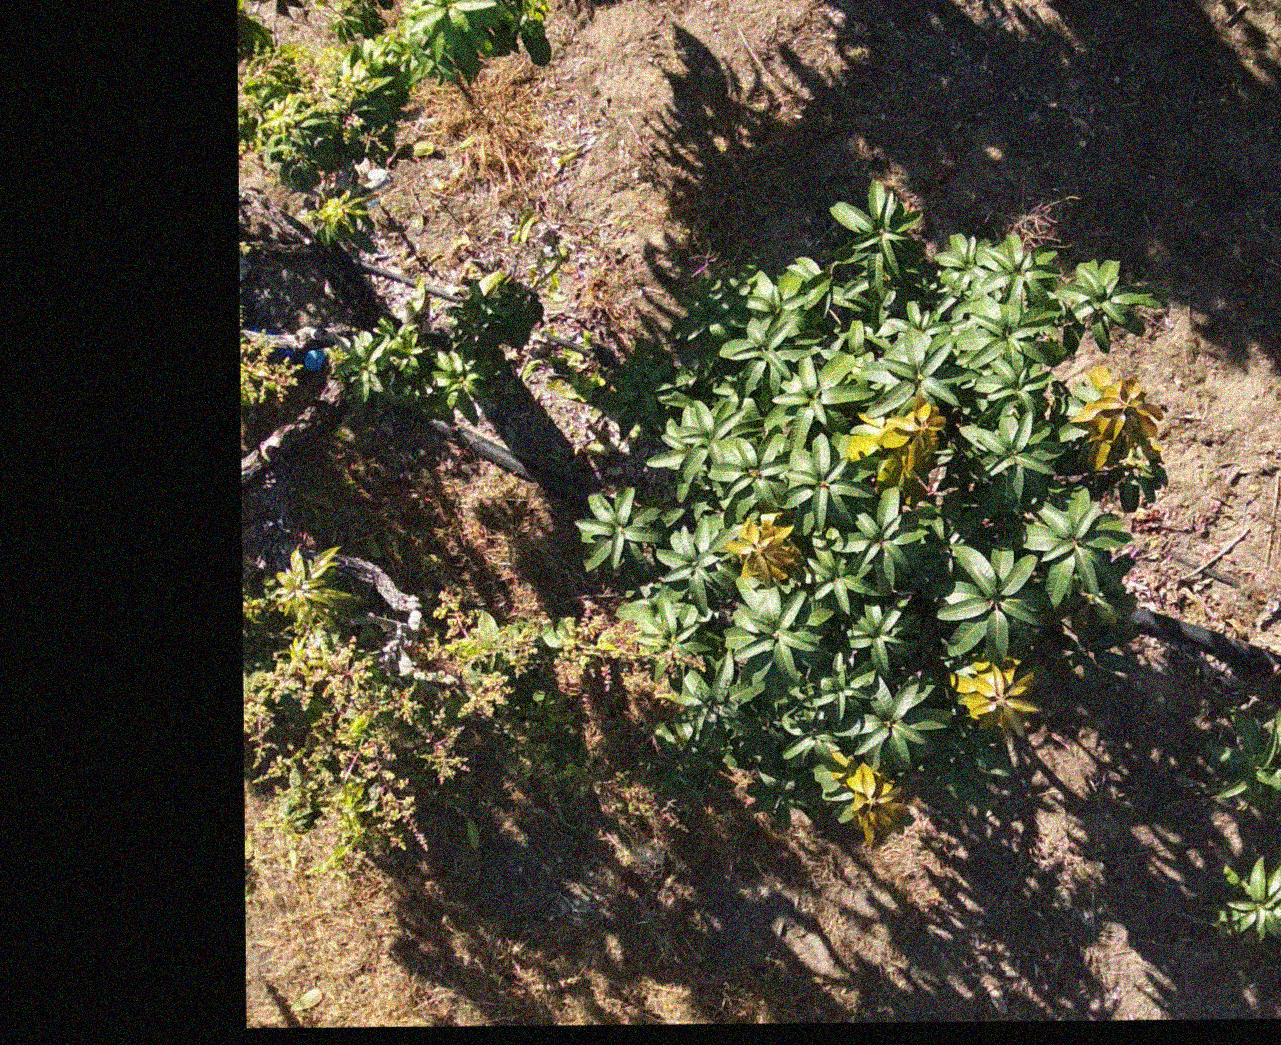flowers: (244, 636, 421, 855), (238, 43, 407, 192), (425, 591, 539, 677), (622, 637, 703, 718), (549, 602, 619, 694), (240, 302, 300, 408), (457, 663, 512, 718), (244, 779, 289, 833), (426, 727, 467, 785), (577, 696, 605, 757)
